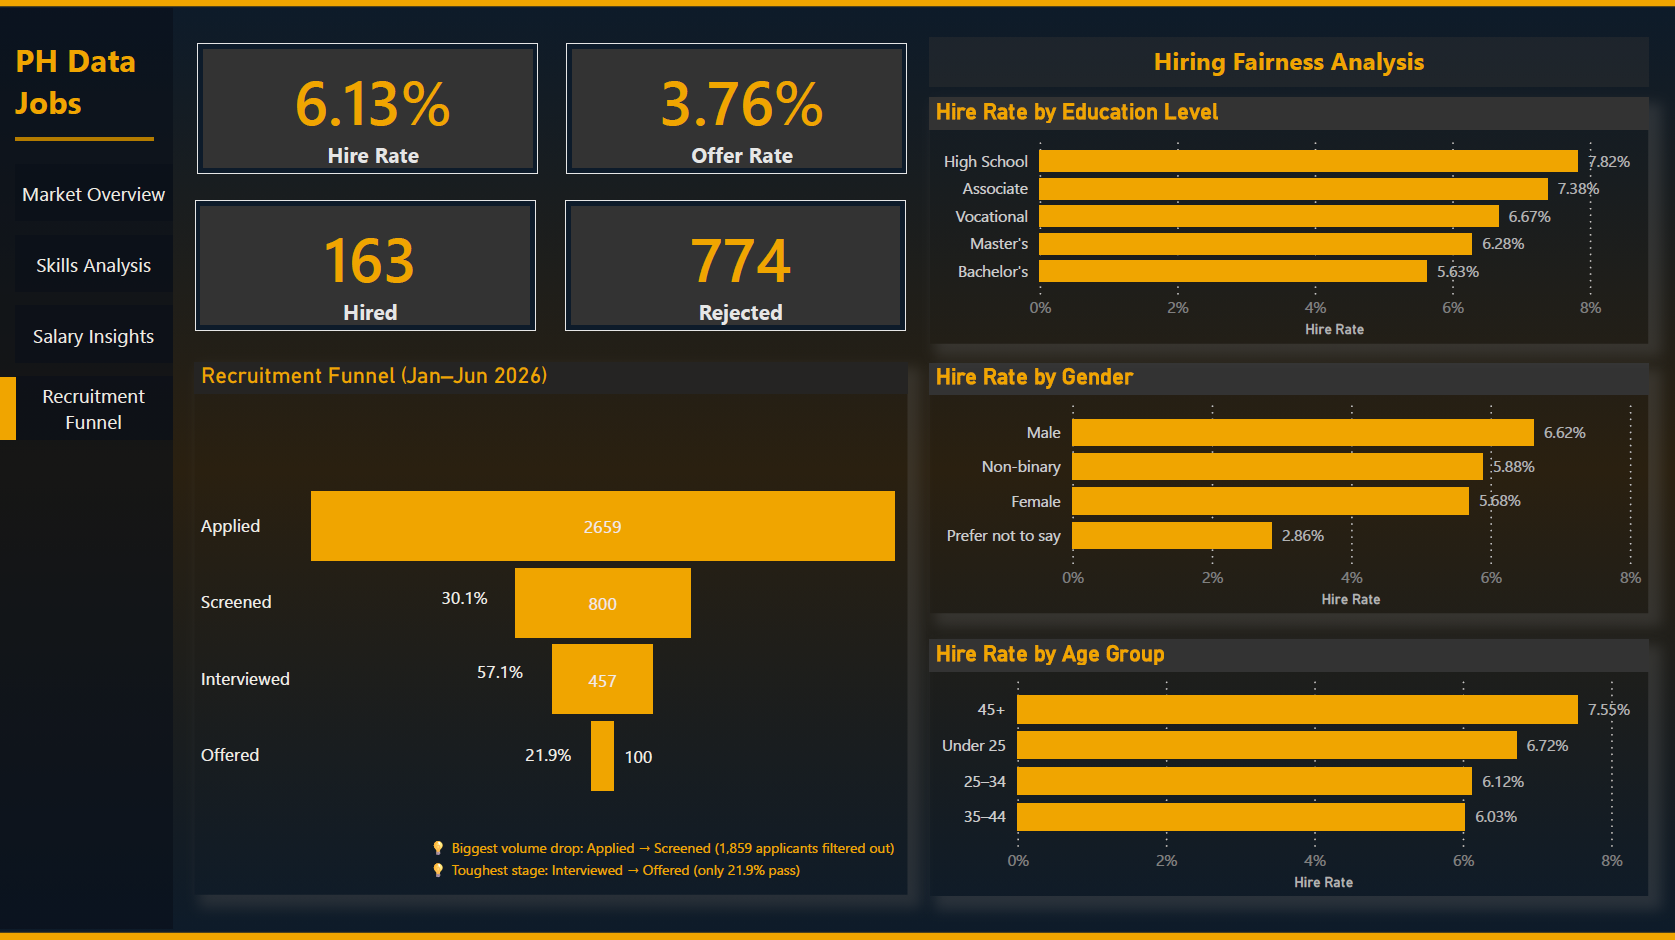

What the dashboard file says about the page in this screenshot:
{"tool":"powerbi","page":{"name":"Recruitment Funnel","canvas":[1280,720],"ordinal":3},"visuals":[{"type":"shape","box":[0,7.8,132,702.7],"z":0,"group":"g1"},{"type":"funnel","title":"Recruitment Funnel (Jan–Jun 2026)","fields":{"Category":["funnel_stages.Stage"],"Y":["_Measures.Funnel Count"]},"box":[148.6,278.1,545.7,407.1],"z":1000},{"type":"cardVisual","title":"Job Postings","fields":{"Data":["_Measures.Offer Rate"]},"box":[415.7,17.1,295,134],"z":2000},{"type":"textbox","box":[332.9,444.3,57.1,42.7],"z":3000},{"type":"cardVisual","title":"Job Postings","fields":{"Data":["_Measures.Hired"]},"box":[131.9,137.1,295,134],"z":4000},{"type":"textbox","box":[360,500,60,42.7],"z":5000},{"type":"cardVisual","title":"Job Postings","fields":{"Data":["_Measures.Rejected"]},"box":[415.2,137.1,295,134],"z":6000},{"type":"textbox","box":[397.1,564.3,50,42.7],"z":7000},{"type":"group","id":"g1","title":"Group 2","box":[0,7.8,132.2,702.7],"z":7001,"group":"g2"},{"type":"cardVisual","title":"Job Postings","fields":{"Data":["_Measures.Hire Rate"]},"box":[133.8,17.1,295,134],"z":8000},{"type":"textbox","box":[322.9,633.8,374.3,51.4],"z":9000},{"type":"clusteredBarChart","title":"Hire Rate by Gender","fields":{"Category":["fact_applications.gender"],"Y":["_Measures.Hire Rate"]},"box":[711.4,278.6,548.6,191.4],"z":10000},{"type":"textbox","box":[6.9,25,108.6,98.6],"z":11000,"group":"g1"},{"type":"clusteredBarChart","title":"Hire Rate by Education Level","fields":{"Category":["fact_applications.education"],"Y":["_Measures.Hire Rate"]},"box":[711.4,75.7,548.6,188.6],"z":11000},{"type":"shape","box":[12,93.4,106.2,27.5],"z":12000,"group":"g1"},{"type":"clusteredBarChart","title":"Hire Rate by Age Group","fields":{"Category":["fact_applications.age_band"],"Y":["_Measures.Hire Rate"]},"box":[711.4,490,548.6,195.7],"z":12000},{"type":"textbox","box":[711.4,30,548.6,37.1],"z":13000},{"type":"actionButton","title":"Market Overview","box":[12.2,126.3,120,43.3],"z":13000,"group":"g1"},{"type":"group","id":"g2","title":"Group 1","box":[0,7.8,132.2,702.7],"z":13001},{"type":"actionButton","title":"Market Overview","box":[12.2,180.3,120,43.7],"z":14000,"group":"g1"},{"type":"actionButton","title":"Market Overview","box":[12.2,234.3,120,43.7],"z":15000,"group":"g1"},{"type":"actionButton","title":"Market Overview","box":[12.2,288.3,120,48.4],"z":16000,"group":"g1"},{"type":"shape","box":[0,290.3,12.3,46.9],"z":17000,"group":"g1"}]}

Visuals, with their boxes in screenshot pixels (x1, y1, x2, y2), scaled from the page's 1280x720 canvas onto the 1675x940 screenshot:
shape: 0 10 173 928
"Recruitment Funnel (Jan–Jun 2026)" funnel: 194 363 909 895
"Job Postings" cardVisual: 544 22 930 197
textbox: 436 580 510 636
"Job Postings" cardVisual: 173 179 559 354
textbox: 471 653 550 709
"Job Postings" cardVisual: 543 179 929 354
textbox: 520 737 585 792
"Group 2" group: 0 10 173 928
"Job Postings" cardVisual: 175 22 561 197
textbox: 423 827 912 895
"Hire Rate by Gender" clusteredBarChart: 931 364 1649 614
textbox: 9 33 151 161
"Hire Rate by Education Level" clusteredBarChart: 931 99 1649 345
shape: 16 122 155 158
"Hire Rate by Age Group" clusteredBarChart: 931 640 1649 895
textbox: 931 39 1649 88
"Market Overview" actionButton: 16 165 173 221
"Group 1" group: 0 10 173 928
"Market Overview" actionButton: 16 235 173 292
"Market Overview" actionButton: 16 306 173 363
"Market Overview" actionButton: 16 376 173 440
shape: 0 379 16 440
